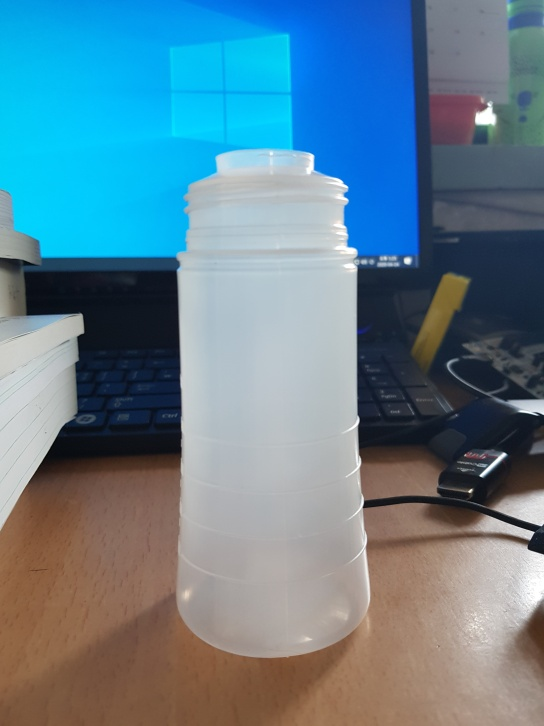Plastic: (167, 147, 373, 661)
